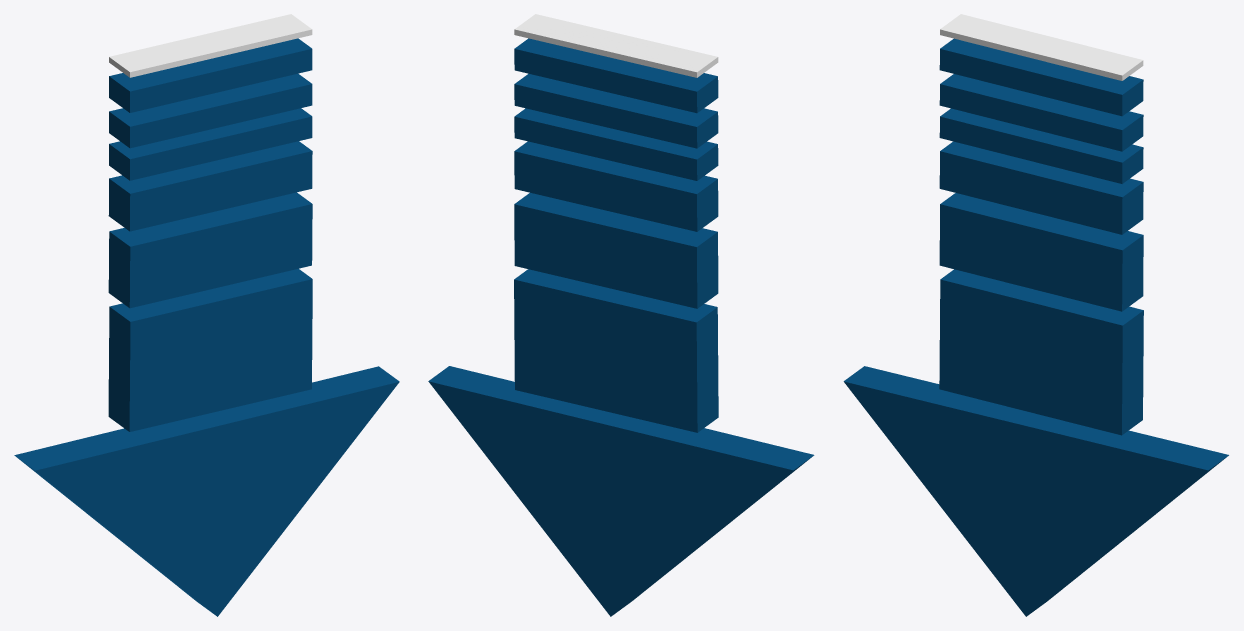
The model's file is ish-arrow-blue.fbx.
3 renders of one model, left to right at view 1: azimuth 30°, elevation 25°; view 2: azimuth 150°, elevation 25°; view 3: azimuth 330°, elevation 25°, orthographic.
Parts seen in each view (by area): view 1: Box1, Box, Box2, Box3, Box5, Box6, Box4, Box7; view 2: Box1, Box, Box2, Box3, Box5, Box6, Box4, Box7; view 3: Box1, Box, Box2, Box3, Box5, Box6, Box4, Box7.
Boxes of the visible parts, x1,y1,x2,y2 form: Box1: (14,366,399,616); Box: (108,268,312,431); Box2: (108,192,312,308); Box3: (108,141,312,231); Box5: (109,73,312,148); Box6: (109,38,312,112); Box4: (109,108,312,180); Box7: (109,14,312,77); Box1: (428,366,814,616); Box: (514,269,718,432); Box2: (514,192,718,308); Box3: (514,141,718,231); Box5: (514,73,718,148); Box6: (514,38,718,113); Box4: (514,108,718,180); Box7: (514,14,718,77); Box1: (843,366,1228,616); Box: (939,269,1143,435); Box2: (939,193,1143,311); Box3: (939,141,1143,234); Box5: (939,74,1143,151); Box6: (939,38,1143,116); Box4: (939,108,1143,183); Box7: (940,14,1143,80).
Size of the model in its own units: 1 by 1.48 by 0.1035.
